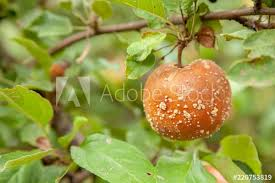damaged_apple: (146, 63, 233, 142)
